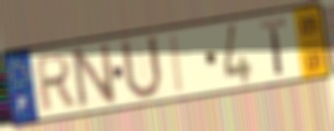4: (221, 20, 255, 87)
I: (169, 31, 186, 96)
N: (67, 40, 119, 113)
R: (35, 51, 77, 116)
T: (258, 16, 289, 79)
U: (118, 33, 166, 103)
